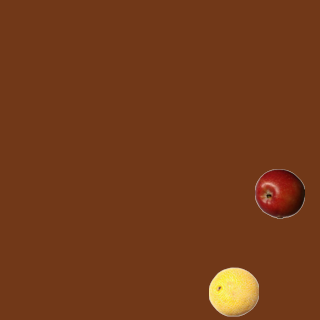Apple Braeburn: (254, 168, 304, 218)
Cantaloupe 1: (208, 266, 258, 316)
